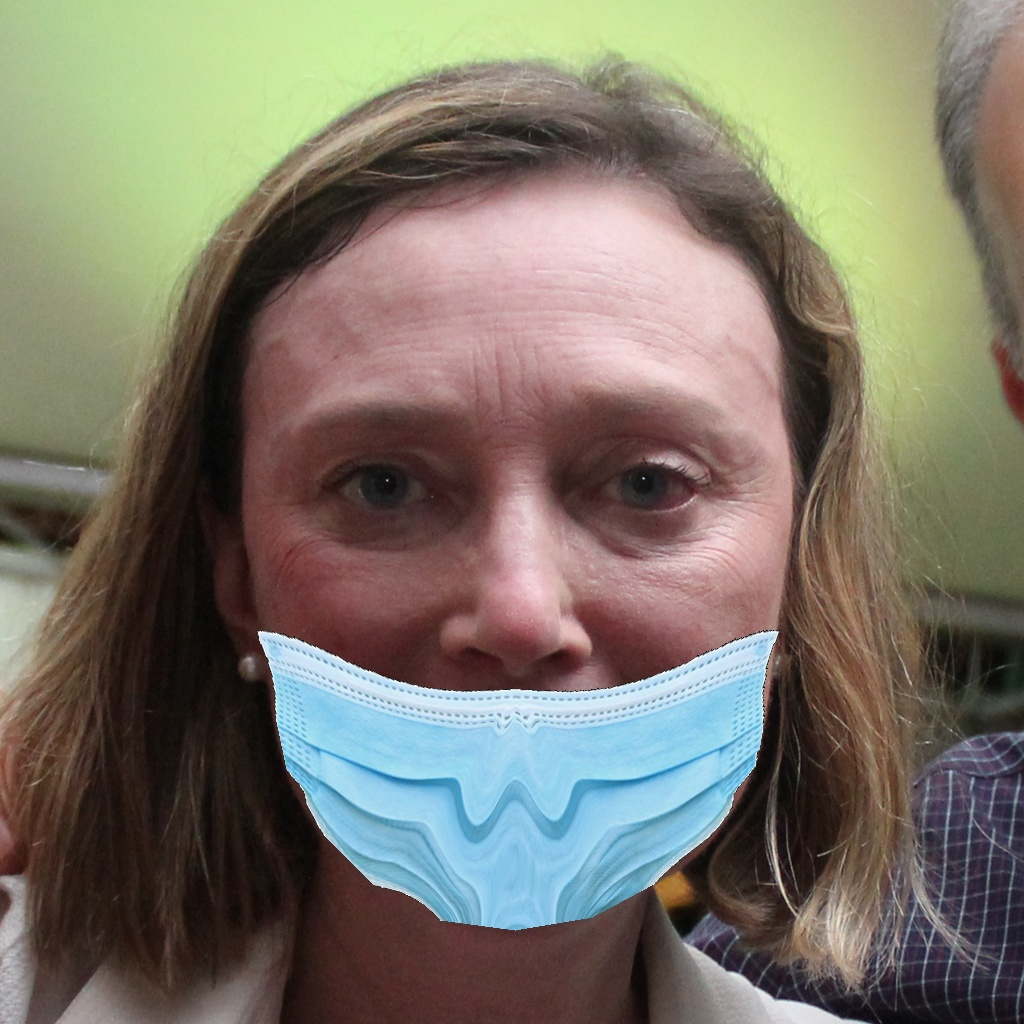mascarilla_mal_puesta: (212, 395, 829, 913)
